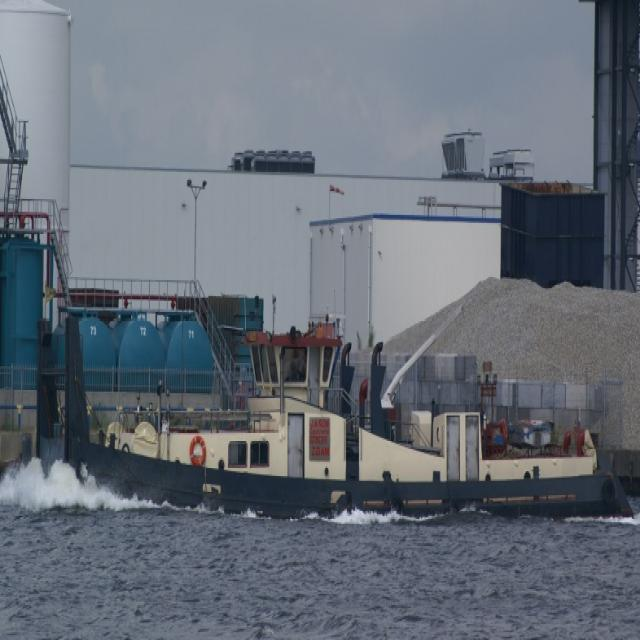tugboat: (33, 310, 639, 544)
